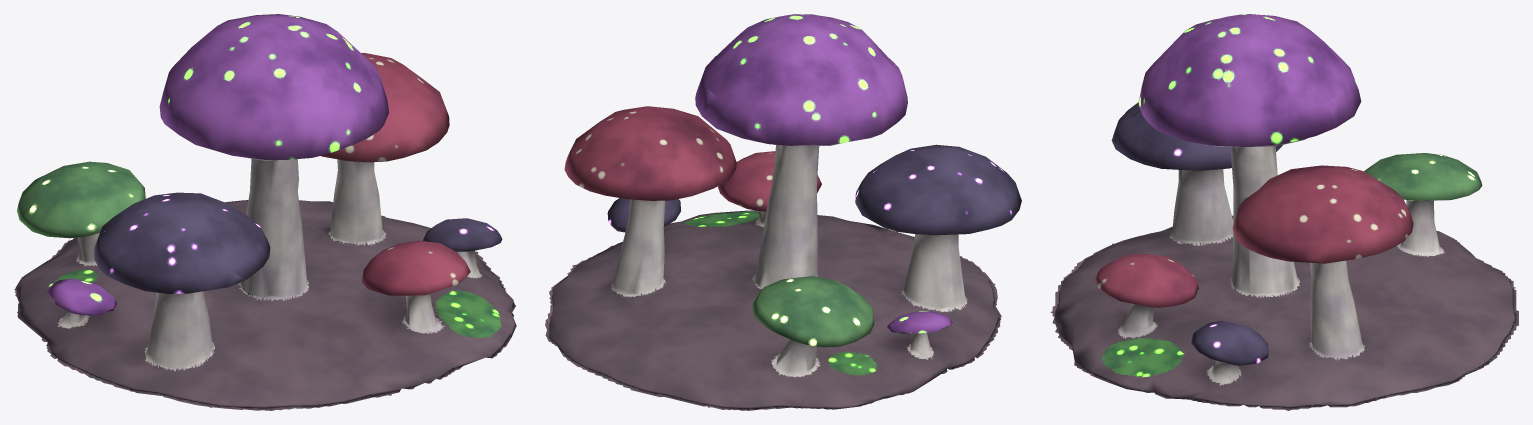
File: hongo_cluster.fbx
3 views of the same model, side by side, from view 1: azimuth 30°, elevation 25°; view 2: azimuth 150°, elevation 25°; view 3: azimuth 270°, elevation 25° (orthographic). The views are drawn at different scales.
Parts seen in each view (by area): view 1: hongos; view 2: hongos; view 3: hongos.
Part boxes in pixels (box(x1,y1,x2,y2)): hongos: box(14, 14, 516, 410); hongos: box(545, 14, 1021, 410); hongos: box(1050, 14, 1518, 410).
Size of the model in its own units: 3 by 2 by 3.
Materials: 1 (1 with a texture image).
